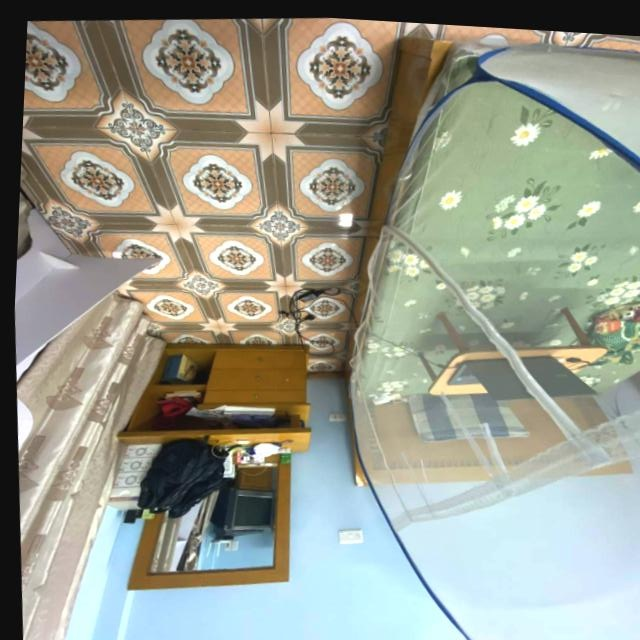outlet: (327, 413, 346, 423)
